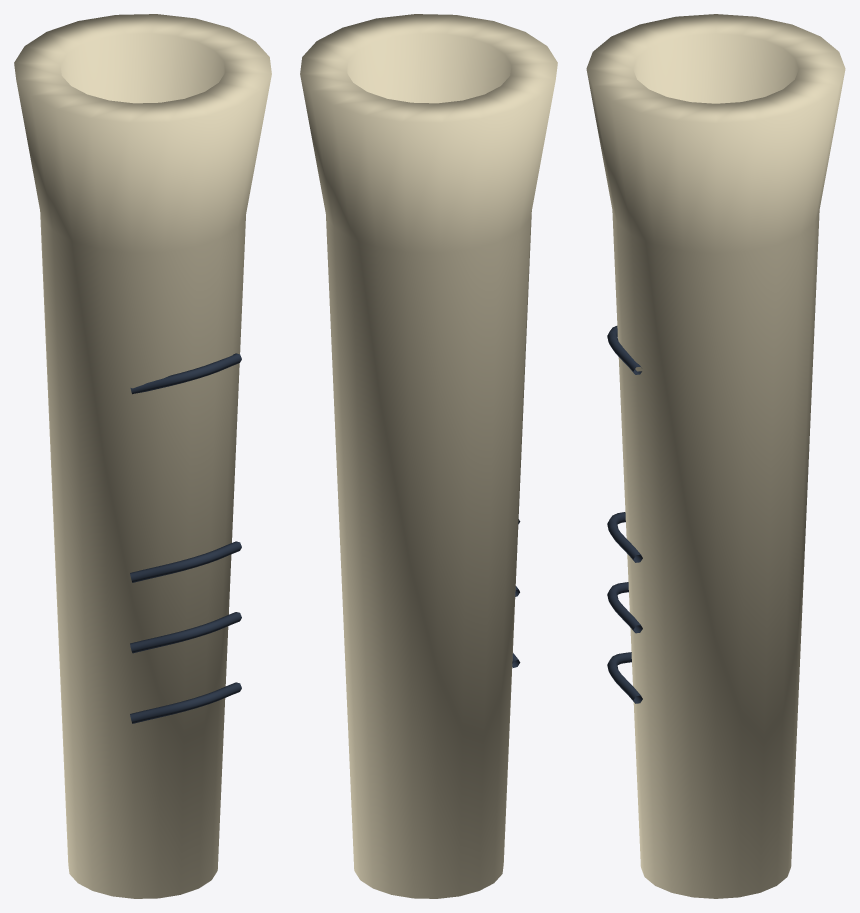
The model's file is newspaper.glb.
The picture shows the model from 3 angles, left to right: view 1: azimuth 30°, elevation 25°; view 2: azimuth 150°, elevation 25°; view 3: azimuth 270°, elevation 25°; orthographic projection.
Parts seen in each view (by area): view 1: House_newspaper; view 2: House_newspaper; view 3: House_newspaper.
Part boxes in pixels (x1,y1,x2,y2): House_newspaper: (14,14,271,898); House_newspaper: (300,14,557,898); House_newspaper: (586,14,845,898).
Size of the model in its own units: 0.1 by 0.34 by 0.1.
